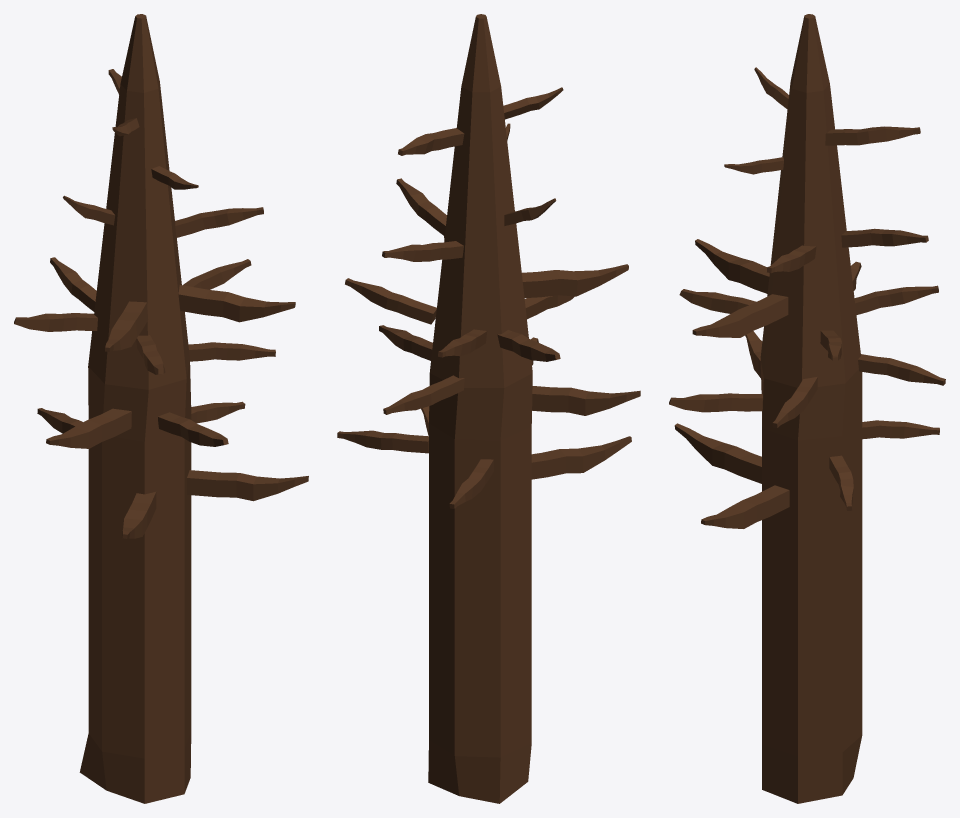
Rendered from deadtreeforest1.fbx.
The picture shows the model from 3 angles, left to right: view 1: azimuth 30°, elevation 25°; view 2: azimuth 150°, elevation 25°; view 3: azimuth 270°, elevation 25°; orthographic projection.
Parts seen in each view (by area): view 1: Cube.011; view 2: Cube.011; view 3: Cube.011.
Part boxes in pixels (bbox=[...]): Cube.011: bbox=[14, 14, 308, 803]; Cube.011: bbox=[337, 14, 640, 803]; Cube.011: bbox=[669, 14, 945, 803].
Size of the model in its own units: 98.19 by 288 by 94.28.
